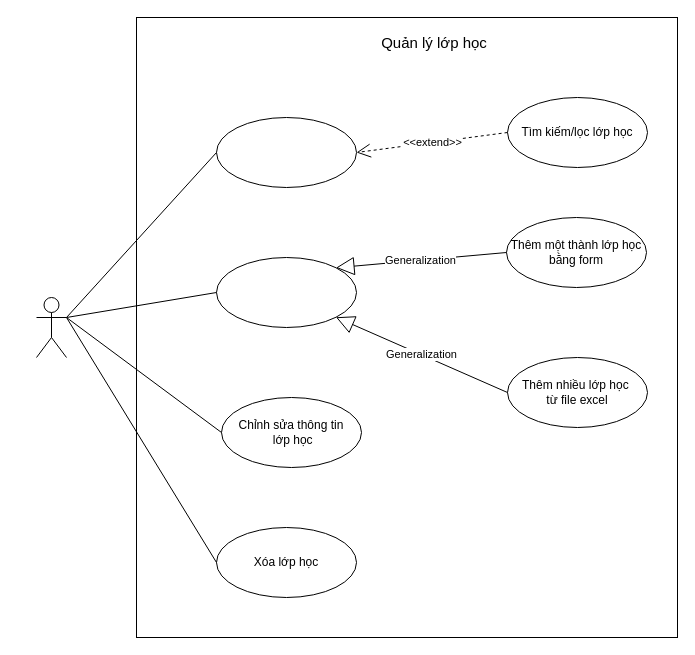
Image size: 695x655. Some labels were removed from this diagram. Each missing label, with the centre of its shape:
Quản trị viên: point 51,327
Thêm lớp học: point 286,292
Xem danh sách lớp học: point 286,152
